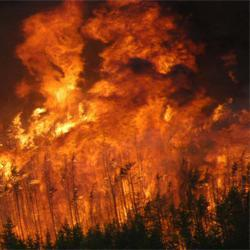fire: (33, 17, 82, 69), (127, 106, 176, 151), (39, 76, 78, 106), (43, 117, 78, 140), (91, 79, 119, 98), (1, 154, 16, 181)
